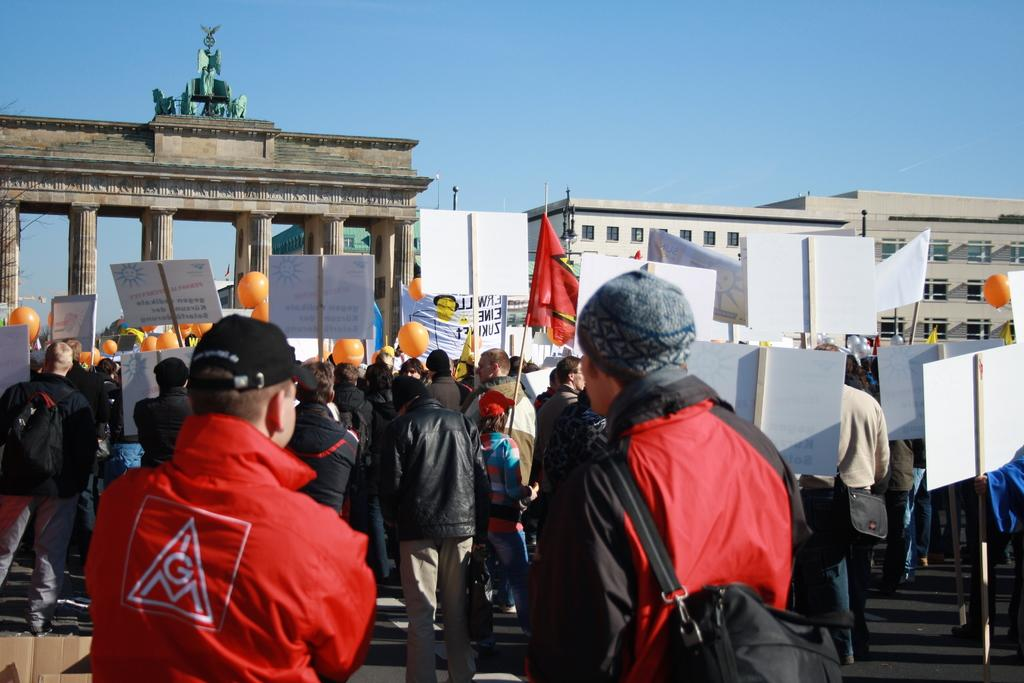Hat: (190, 316, 318, 392)
